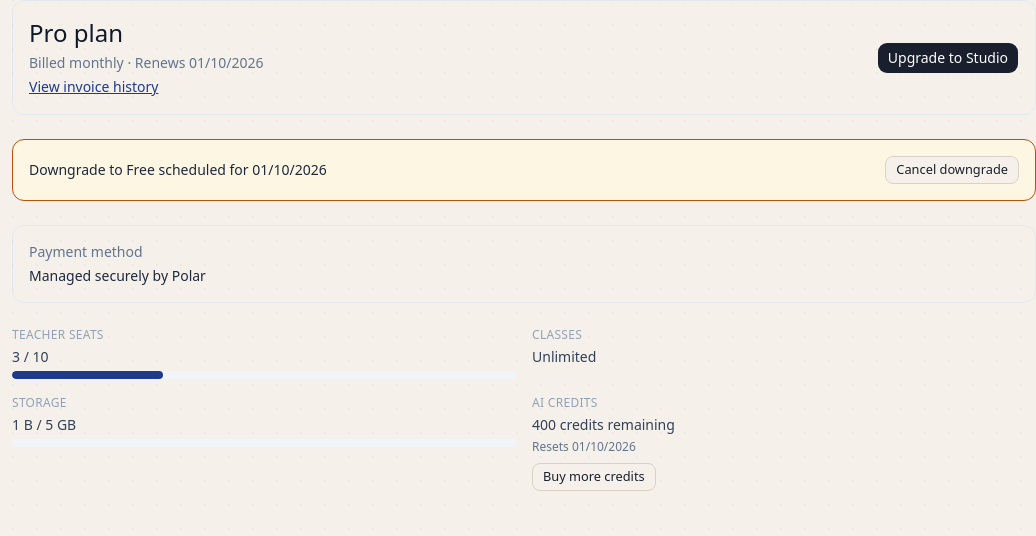
Test: BillingDashboardPage — 9-2b pending-downgrade card (AC6) › shows an inline error when the cancel request fails
Click the button with test id "pending-downgrade-cancel" at (952, 170), box [885,156,1019,184]
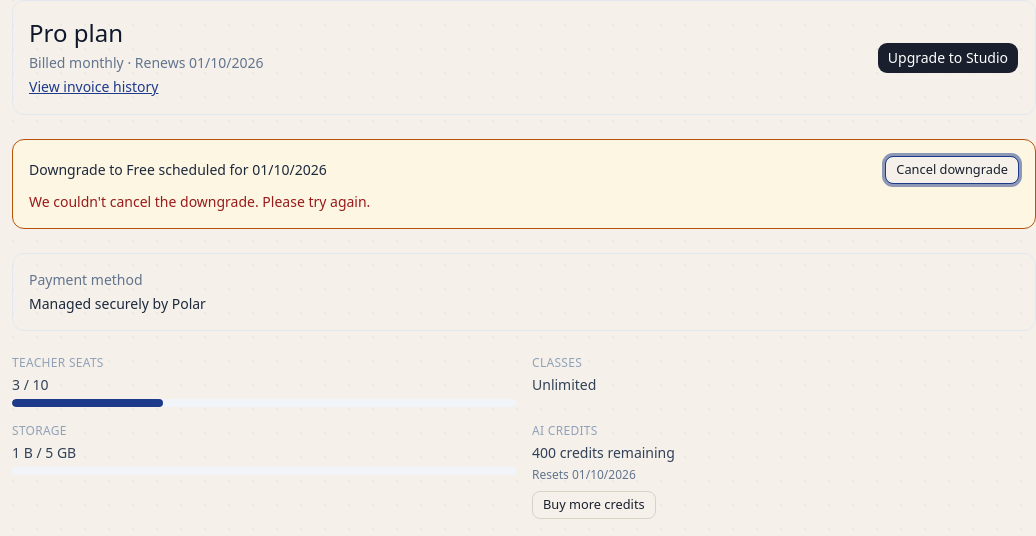
Result: the message "We couldn't cancel the downgrade. Please try again." is shown at [29,192,370,211]
